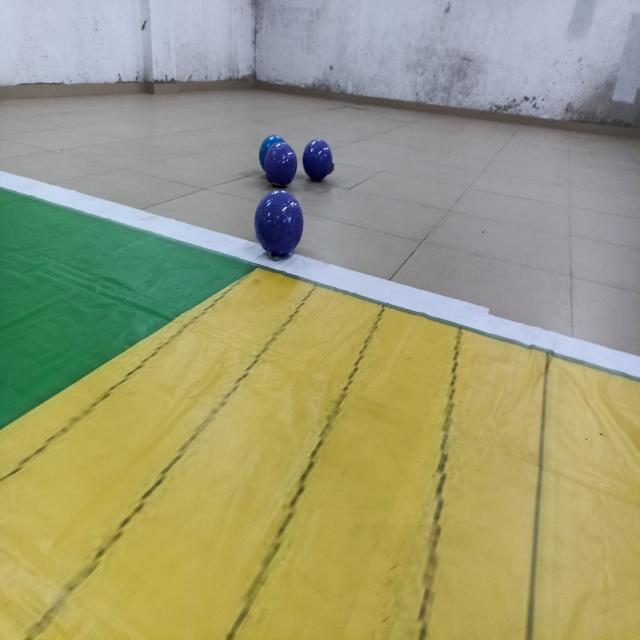blue_ball: (258, 134, 288, 163)
purple_ball: (252, 188, 305, 264), (262, 140, 298, 191), (301, 138, 333, 183)
